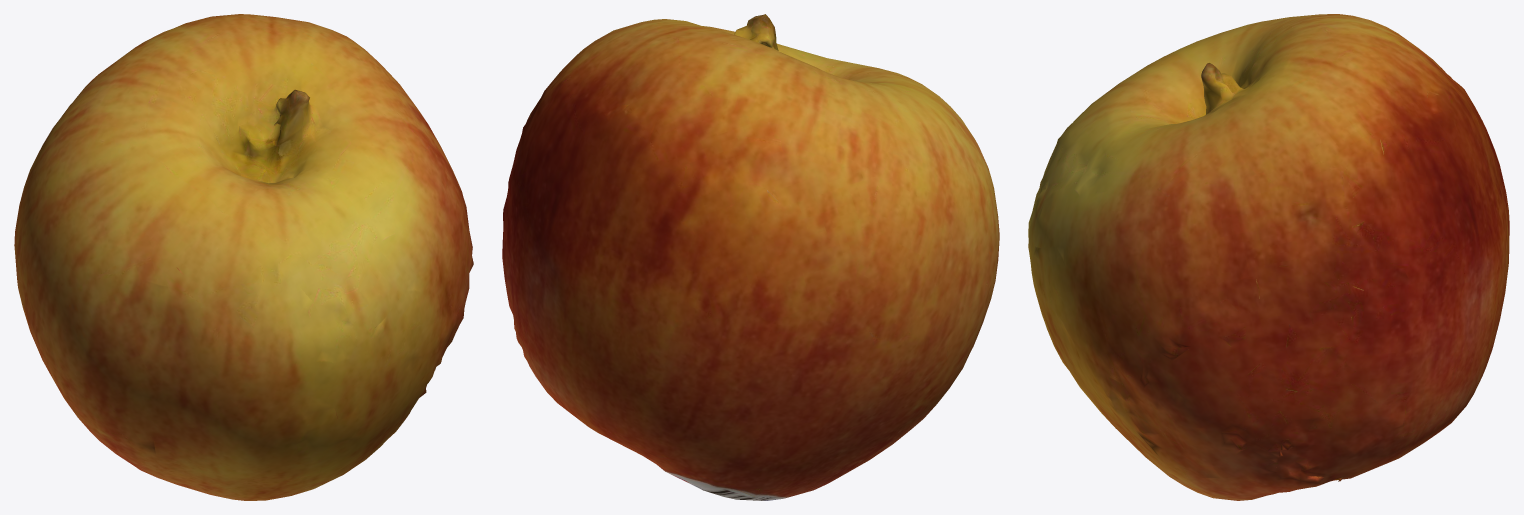
The picture shows the model from 3 angles, left to right: view 1: azimuth 30°, elevation 25°; view 2: azimuth 150°, elevation 25°; view 3: azimuth 270°, elevation 25°; orthographic projection. The views are drawn at different scales.
Size of the model in its own units: 0.0771 by 0.08 by 0.0771.
1 material, 1 textured.
